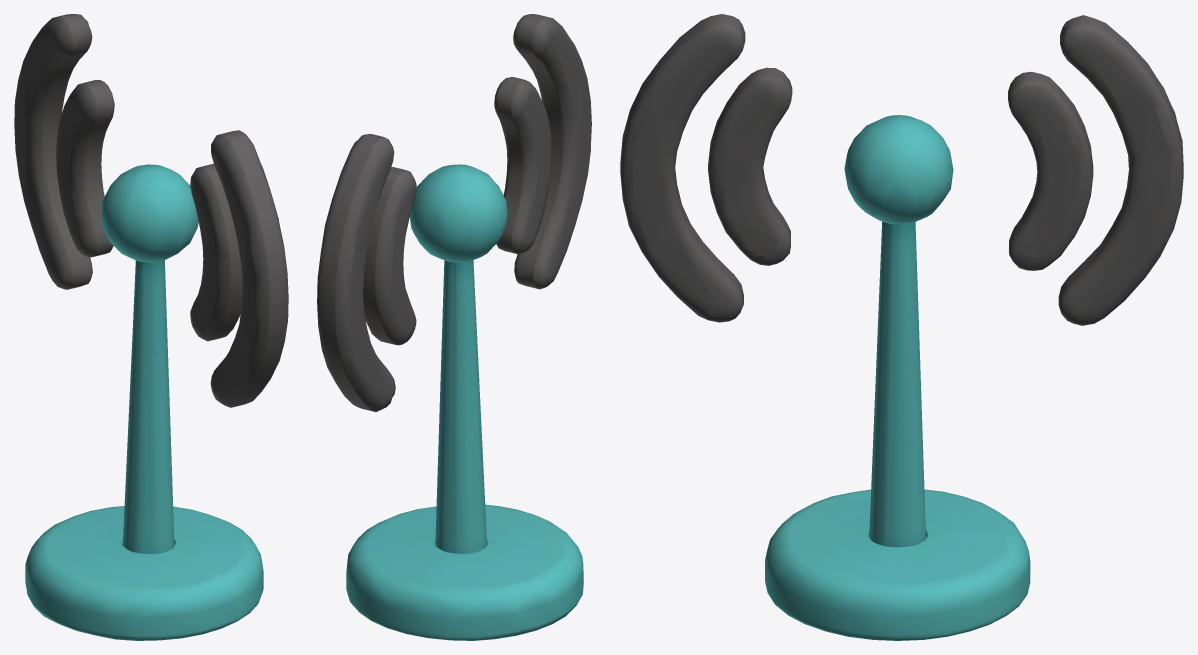
File: icon-antenna.glb
3 renders of one model, left to right at view 1: azimuth 30°, elevation 25°; view 2: azimuth 150°, elevation 25°; view 3: azimuth 270°, elevation 25°, orthographic. The views are drawn at different scales.
Visible parts, largest first — view 1: tripo_node_kodyurd-model-21____________________; view 2: tripo_node_kodyurd-model-21____________________; view 3: tripo_node_kodyurd-model-21____________________.
Part boxes in pixels (box(x1,y1,x2,y2)): tripo_node_kodyurd-model-21____________________: box(14, 14, 288, 640); tripo_node_kodyurd-model-21____________________: box(317, 14, 591, 640); tripo_node_kodyurd-model-21____________________: box(620, 14, 1183, 640).
Size of the model in its own units: 0.4199 by 0.998 by 0.8887.
Materials: 1 (1 with a texture image).
